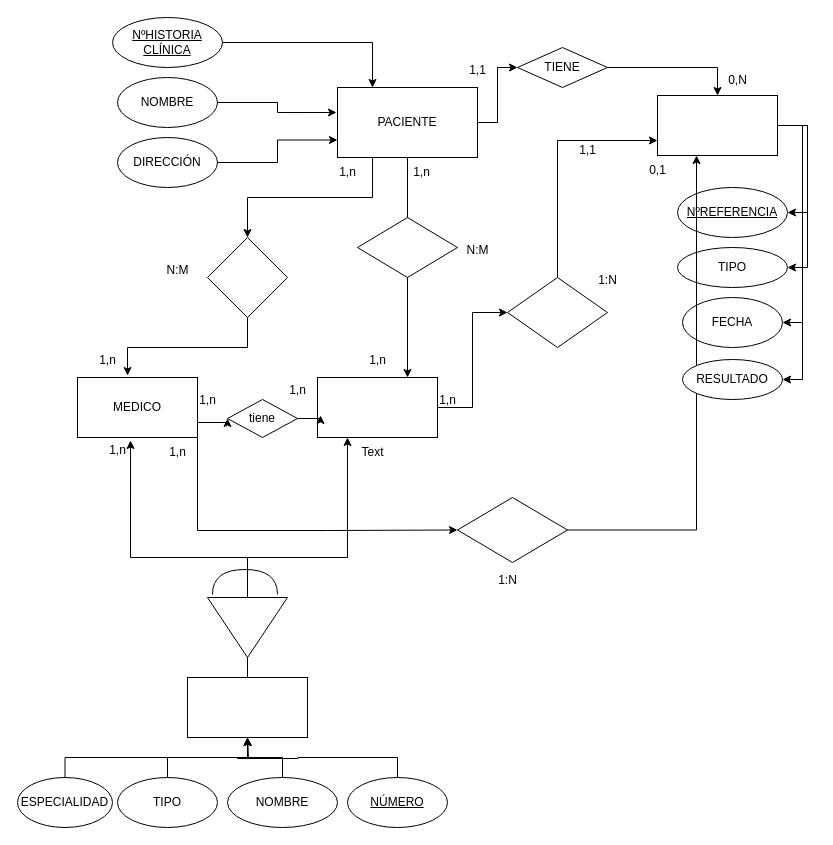
The diagram is 833 pixels wide and 845 high, and some of its shapes have lost their labels. Here are the shapes that lost their labels. From the top down, the box of each, then its label:
(656, 94, 778, 156): ANÁLISIS
(356, 216, 458, 278): ES ASISTIDO
(206, 236, 288, 318): ES ATENDIDO
(506, 276, 608, 348): REALIZA
(316, 376, 438, 438): ATS
(456, 496, 568, 562): SOLICITA
(206, 596, 288, 658): IS A
(186, 676, 308, 738): EMPLEADO
